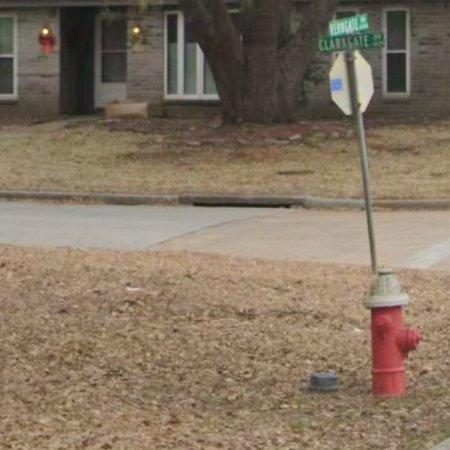a fire hydrant: (365, 270, 422, 399)
